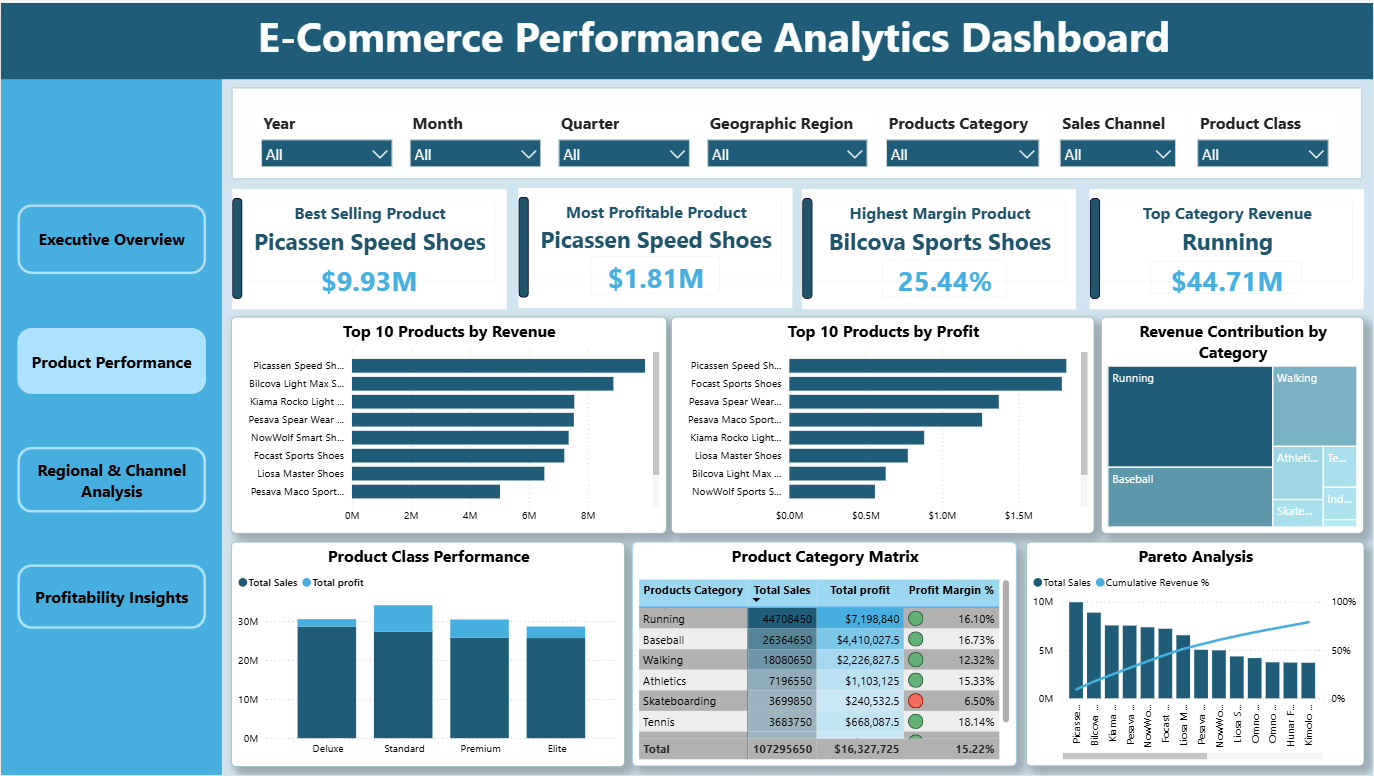

The dashboard page shown, as its layout file describes it:
{"tool":"powerbi","page":{"name":" Product Performance","canvas":[1600,900],"ordinal":1},"visuals":[{"type":"group","id":"g1","title":"Group 1","box":[0,0,257.9,900.3],"z":0},{"type":"shape","box":[0,0,257.9,900.3],"z":0,"group":"g1"},{"type":"shape","box":[0,0,1600,89],"z":1000,"group":"g2"},{"type":"actionButton","title":"ggggg","box":[19.6,235.3,220.2,81.4],"z":1000,"group":"g1"},{"type":"barChart","title":"Top 10 Products by Revenue","fields":{"Category":["Products.Product Name"],"Y":["Measure table.Total Sales"]},"box":[268.4,366,507.6,253],"z":1000},{"type":"shape","box":[268.4,98,1319.5,108.6],"z":2000,"group":"g3"},{"type":"barChart","title":"Top 10 Products by Profit","fields":{"Category":["Products.Product Name"],"Y":["Measure table.Total profit"]},"box":[781.2,366,493.9,253],"z":2000},{"type":"actionButton","box":[19.6,378.5,220.2,76.9],"z":2000,"group":"g1"},{"type":"textbox","box":[294.1,0,1109.9,89],"z":3000,"group":"g2"},{"type":"treemap","title":"Revenue Contribution by Category","fields":{"Group":["Product Category.Products Category"],"Values":["Measure table.Total Sales"]},"box":[1282,366,306.3,253],"z":3000},{"type":"actionButton","box":[19.6,517.3,220.2,76.9],"z":3000,"group":"g1"},{"type":"slicer","fields":{"Values":["Date.Year"]},"box":[292.5,123.1,173.4,69.4],"z":4000,"group":"g3"},{"type":"columnChart","title":"Product Class Performance","fields":{"Category":["Product Class.Product Class"],"Y":["Measure table.Total Sales","Measure table.Total profit"]},"box":[268.4,628.1,459.5,262],"z":4000},{"type":"actionButton","box":[19.6,654.5,220.2,75.4],"z":4000,"group":"g1"},{"type":"slicer","fields":{"Values":["Region.Geographic Region"]},"box":[812.8,123.1,206.6,69.4],"z":5000,"group":"g3"},{"type":"pivotTable","title":"Product Category Matrix","fields":{"Rows":["Product Category.Products Category"],"Values":["Measure table.Total Sales","Measure table.Total profit","Measure table.Profit Margin %"]},"box":[736,628.1,448,261.6],"z":5000},{"type":"slicer","fields":{"Values":["Date.Quarter No"]},"box":[639.4,123.1,173.4,69.4],"z":6000,"group":"g3"},{"type":"lineClusteredColumnComboChart","title":"Pareto Analysis","fields":{"Category":["Products.Product Name"],"Y":["Measure table.Total Sales"],"Y2":["Measure table.Cumulative Revenue %"]},"box":[1194.2,628.1,394.1,261.6],"z":6000},{"type":"group","id":"g2","title":"Group 2","box":[0,0,1600,89],"z":7000},{"type":"slicer","fields":{"Values":["Date.Month name"]},"box":[466,123.1,173.4,69.4],"z":7000,"group":"g3"},{"type":"group","id":"g3","title":"Group 3","box":[268.4,98,1319.5,108.6],"z":8000},{"type":"slicer","fields":{"Values":["Sales Details.Sales Channel"]},"box":[1224.5,123.1,155.3,69.4],"z":8000,"group":"g3"},{"type":"slicer","fields":{"Values":["Products.Products Category"]},"box":[1022.5,123.1,199.1,69.4],"z":9000,"group":"g3"},{"type":"group","id":"g4","title":"Group 4","box":[269.2,215.8,1320.2,145.3],"z":9000},{"type":"slicer","fields":{"Values":["Products.Product Class"]},"box":[1384.4,123.1,173.4,69.4],"z":10000,"group":"g3"},{"type":"group","id":"g5","title":"Group 5","box":[269.2,217.3,319.7,140.2],"z":11000,"group":"g4"},{"type":"group","id":"g6","title":"Group 5","box":[602.5,215.8,319,142.2],"z":12000,"group":"g4"},{"type":"group","id":"g7","title":"Group 5","box":[934.3,217.3,319,144.5],"z":13000,"group":"g4"},{"type":"group","id":"g8","title":"Group 5","box":[1269,217.3,319,140.2],"z":14000,"group":"g4"},{"type":"cardVisual","fields":{"Data":["Measure table.Most Profitable Product"]},"box":[602.5,215.8,319,140],"z":19000,"group":"g6"},{"type":"cardVisual","fields":{"Data":["Measure table.Best Selling Product"]},"box":[269.2,217.3,319.7,140.2],"z":19000,"group":"g5"},{"type":"cardVisual","fields":{"Data":["Measure table.Highest Margin Product"]},"box":[934.3,217.3,319,140.2],"z":19000,"group":"g7"},{"type":"cardVisual","fields":{"Data":["Measure table.Top Category Revenue"]},"box":[1269,217.3,319,140.2],"z":19000,"group":"g8"},{"type":"cardVisual","fields":{"Data":["Measure table.Best Product Profit"]},"box":[670,278.1,185.5,79.9],"z":24000,"group":"g6"},{"type":"cardVisual","fields":{"Data":["Measure table.Highest Product Margin"]},"box":[1009.7,281.9,181,79.9],"z":24000,"group":"g7"},{"type":"cardVisual","fields":{"Data":["Measure table.Top Category Revenue Value"]},"box":[1323.6,284.9,211.1,72.4],"z":24000,"group":"g8"},{"type":"cardVisual","fields":{"Data":["Measure table.Best Selling Product Revenue"]},"box":[326.7,285.2,206.3,72.4],"z":24000,"group":"g5"},{"type":"shape","box":[602.5,226.4,12,117.6],"z":24500,"group":"g6"},{"type":"shape","box":[269.2,227.9,11.8,117.6],"z":24500,"group":"g5"},{"type":"shape","box":[934.3,227.9,12.1,117.6],"z":24500,"group":"g7"},{"type":"shape","box":[1269,227.9,12.1,117.6],"z":24500,"group":"g8"}]}

Visuals, with their boxes in screenshot pixels (x1, y1, x2, y2), scaled from the page's 1600x900 canvas onto the 1374x776 screenshot:
"Group 1" group: [x1=0, y1=0, x2=221, y2=775]
shape: [x1=0, y1=0, x2=221, y2=775]
shape: [x1=0, y1=0, x2=1373, y2=77]
"ggggg" actionButton: [x1=17, y1=203, x2=206, y2=273]
"Top 10 Products by Revenue" barChart: [x1=230, y1=316, x2=666, y2=534]
shape: [x1=230, y1=84, x2=1364, y2=178]
"Top 10 Products by Profit" barChart: [x1=671, y1=316, x2=1095, y2=534]
actionButton: [x1=17, y1=326, x2=206, y2=393]
textbox: [x1=253, y1=0, x2=1206, y2=77]
"Revenue Contribution by Category" treemap: [x1=1101, y1=316, x2=1364, y2=534]
actionButton: [x1=17, y1=446, x2=206, y2=512]
slicer - Date.Year: [x1=251, y1=106, x2=400, y2=166]
"Product Class Performance" columnChart: [x1=230, y1=542, x2=625, y2=767]
actionButton: [x1=17, y1=564, x2=206, y2=629]
slicer - Region.Geographic Region: [x1=698, y1=106, x2=875, y2=166]
"Product Category Matrix" pivotTable: [x1=632, y1=542, x2=1017, y2=767]
slicer - Date.Quarter No: [x1=549, y1=106, x2=698, y2=166]
"Pareto Analysis" lineClusteredColumnComboChart: [x1=1026, y1=542, x2=1364, y2=767]
"Group 2" group: [x1=0, y1=0, x2=1373, y2=77]
slicer - Date.Month name: [x1=400, y1=106, x2=549, y2=166]
"Group 3" group: [x1=230, y1=84, x2=1364, y2=178]
slicer - Sales Details.Sales Channel: [x1=1052, y1=106, x2=1185, y2=166]
slicer - Products.Products Category: [x1=878, y1=106, x2=1049, y2=166]
"Group 4" group: [x1=231, y1=186, x2=1365, y2=311]
slicer - Products.Product Class: [x1=1189, y1=106, x2=1338, y2=166]
"Group 5" group: [x1=231, y1=187, x2=506, y2=308]
"Group 5" group: [x1=517, y1=186, x2=791, y2=309]
"Group 5" group: [x1=802, y1=187, x2=1076, y2=312]
"Group 5" group: [x1=1090, y1=187, x2=1364, y2=308]
cardVisual - Measure table.Most Profitable Product: [x1=517, y1=186, x2=791, y2=307]
cardVisual - Measure table.Best Selling Product: [x1=231, y1=187, x2=506, y2=308]
cardVisual - Measure table.Highest Margin Product: [x1=802, y1=187, x2=1076, y2=308]
cardVisual - Measure table.Top Category Revenue: [x1=1090, y1=187, x2=1364, y2=308]
cardVisual - Measure table.Best Product Profit: [x1=575, y1=240, x2=735, y2=309]
cardVisual - Measure table.Highest Product Margin: [x1=867, y1=243, x2=1023, y2=312]
cardVisual - Measure table.Top Category Revenue Value: [x1=1137, y1=246, x2=1318, y2=308]
cardVisual - Measure table.Best Selling Product Revenue: [x1=281, y1=246, x2=458, y2=308]
shape: [x1=517, y1=195, x2=528, y2=297]
shape: [x1=231, y1=197, x2=241, y2=298]
shape: [x1=802, y1=197, x2=813, y2=298]
shape: [x1=1090, y1=197, x2=1100, y2=298]
